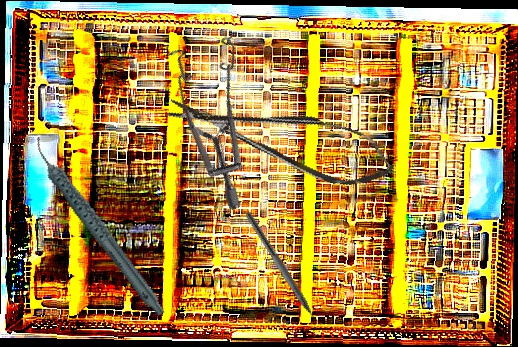Chopper: (236, 210, 327, 338)
Handpiece: (32, 117, 167, 334)
Micro Scissor: (161, 73, 401, 200)
Speculum: (129, 15, 318, 212)
